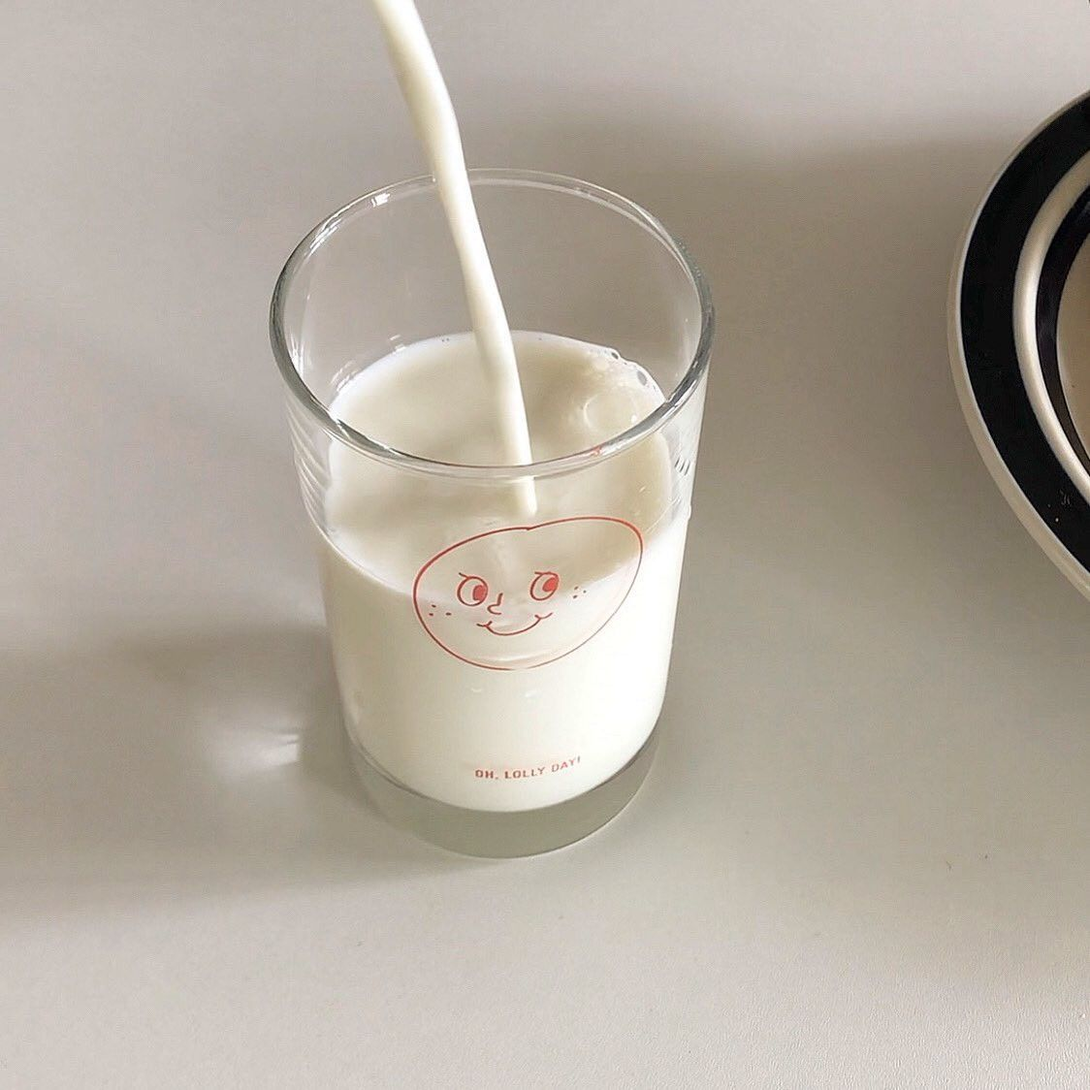produk_susu: (339, 236, 670, 778)
